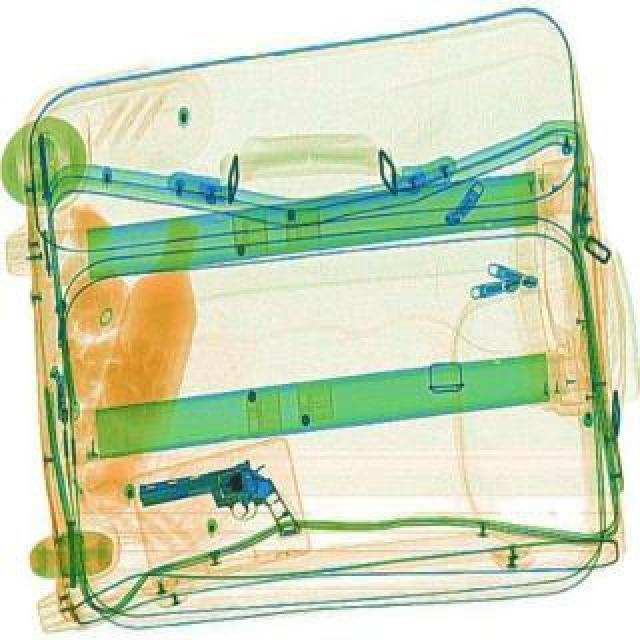gun: (130, 448, 304, 568)
